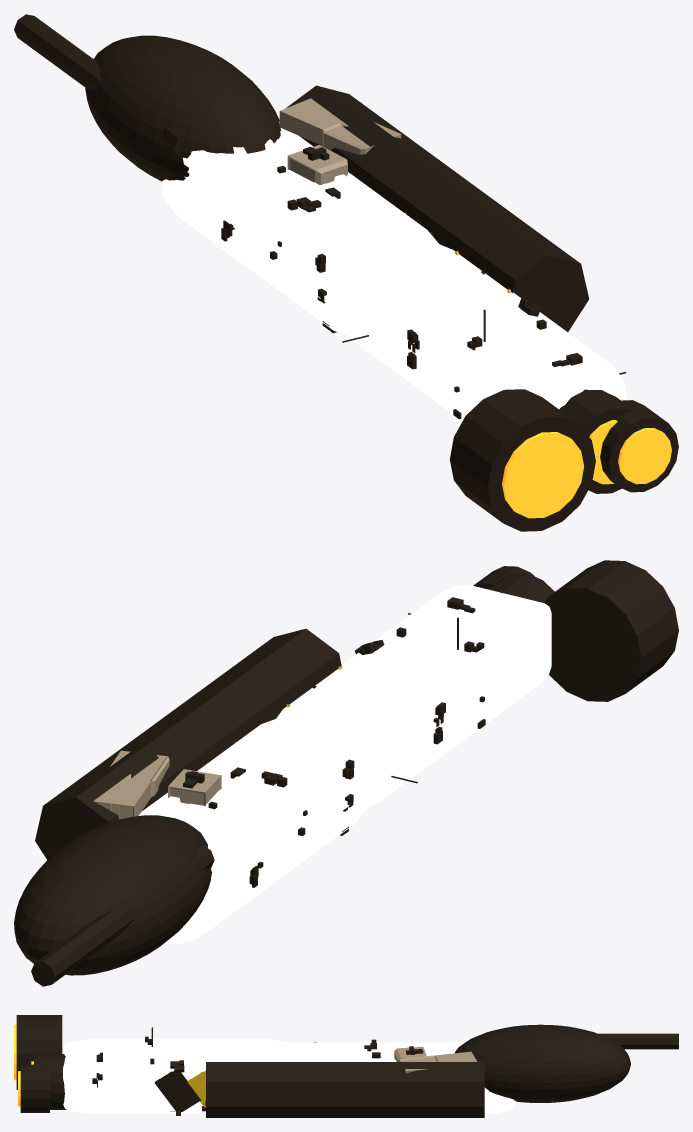
The model's file is raxxan_small.glb.
3 views of the same model, one above another, from view 1: azimuth 30°, elevation 25°; view 2: azimuth 150°, elevation 25°; view 3: azimuth 270°, elevation 25° (orthographic). The views are drawn at different scales.
Parts seen in each view (by area): view 1: raxxan_small; view 2: raxxan_small; view 3: raxxan_small.
Part boxes in pixels (<box>): raxxan_small: <box>14,14,678,531</box>; raxxan_small: <box>14,560,678,986</box>; raxxan_small: <box>14,1015,678,1117</box>.
Size of the model in its own units: 2.7 by 1.33 by 10.
